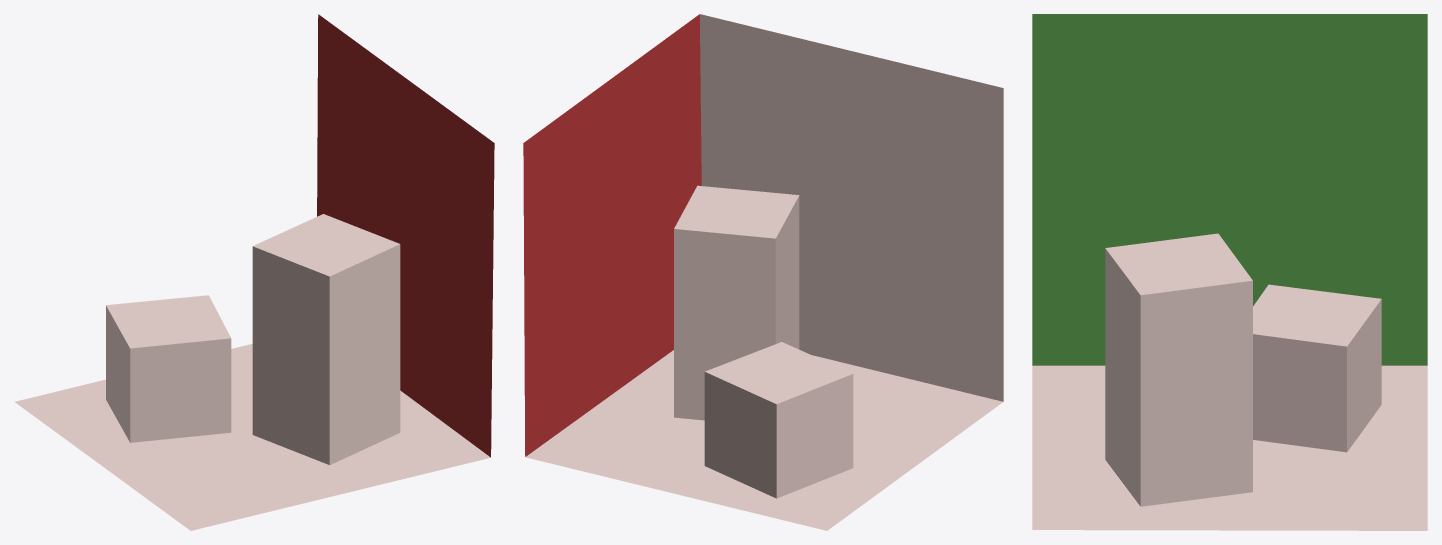
Rendered from mdl_cornell_box.gltf.
3 views of the same model, side by side, from view 1: azimuth 30°, elevation 25°; view 2: azimuth 150°, elevation 25°; view 3: azimuth 270°, elevation 25° (orthographic). The views are drawn at different scales.
Parts seen in each view (by area): view 1: white, red; view 2: white, red; view 3: green, white.
Part boxes in pixels (box(x1,y1,x2,y2)): white: box(15, 214, 490, 530); red: box(317, 14, 494, 457); white: box(525, 14, 1003, 530); red: box(523, 14, 701, 456); green: box(1032, 14, 1427, 365); white: box(1032, 233, 1427, 530).
Size of the model in its own units: 0.556 by 0.5488 by 0.5592.
